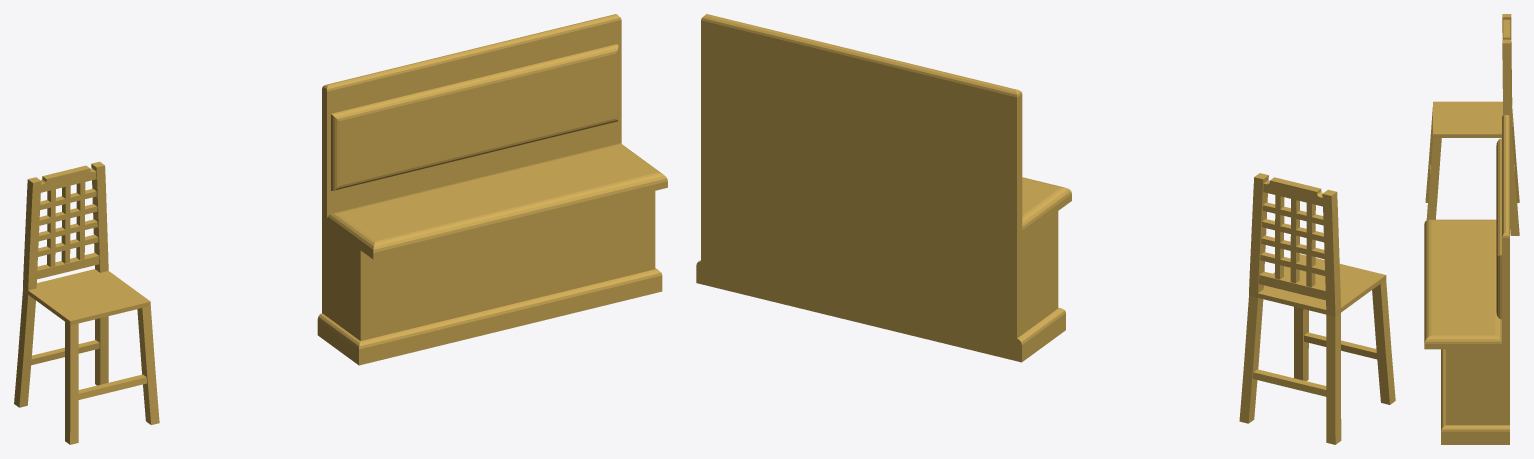
Rendered from Set_Asientos.fbx.
3 views of the same model, side by side, from view 1: azimuth 30°, elevation 25°; view 2: azimuth 150°, elevation 25°; view 3: azimuth 270°, elevation 25° (orthographic). The views are drawn at different scales.
Parts seen in each view (by area): view 1: m_Sillón, m_Silla; view 2: m_Sillón, m_Silla; view 3: m_Sillón, m_Silla.
Part boxes in pixels (x1,y1,x2,y2): m_Sillón: [317, 14, 667, 365]; m_Silla: [14, 161, 159, 444]; m_Sillón: [696, 14, 1071, 362]; m_Silla: [1239, 173, 1395, 444]; m_Sillón: [1424, 115, 1509, 444]; m_Silla: [1425, 14, 1519, 235].
Size of the model in its own units: 763 by 303 by 125.
